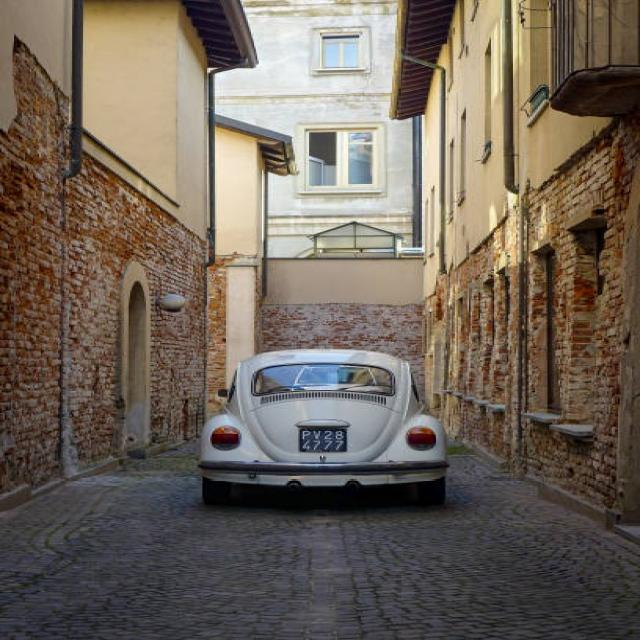car: (193, 337, 456, 495)
